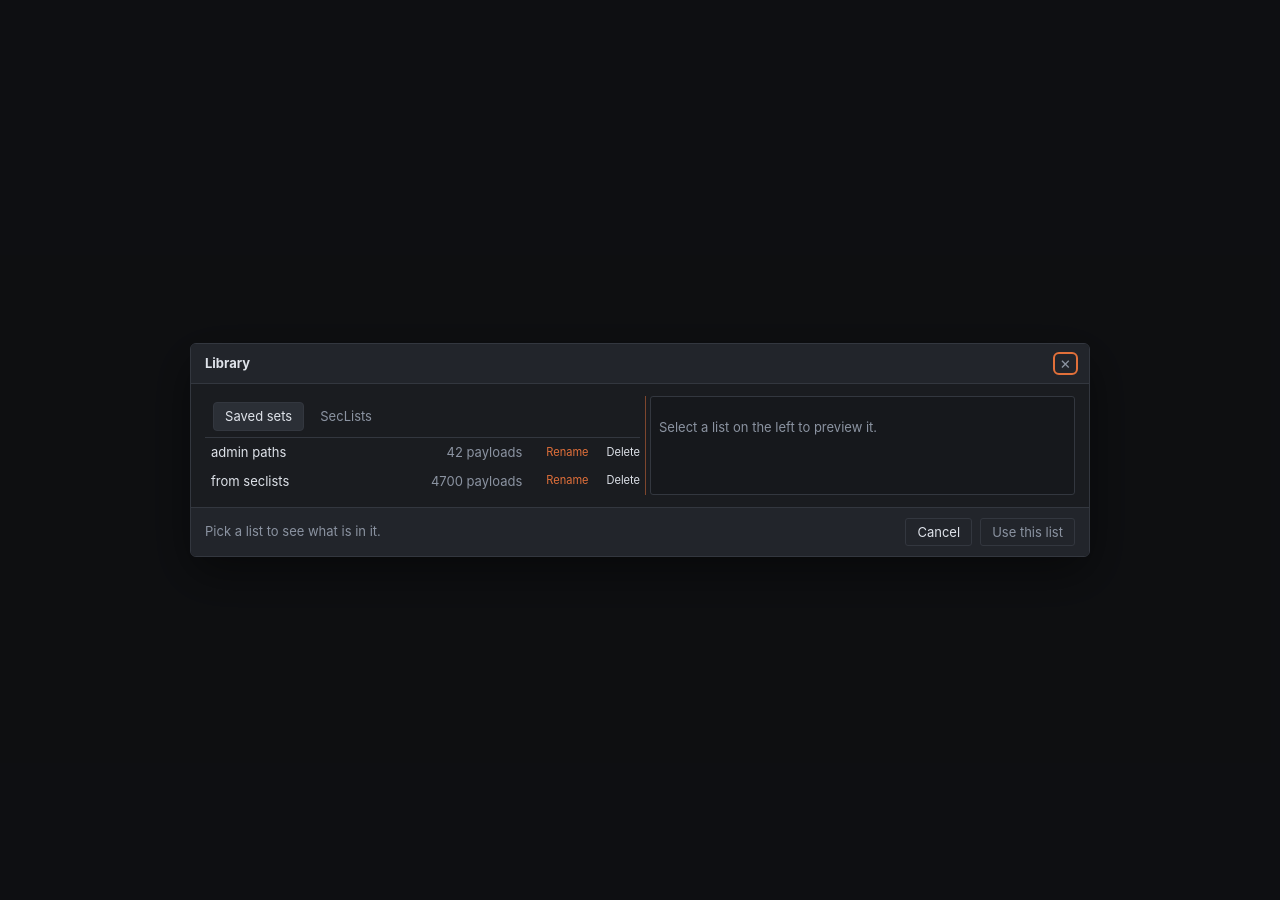
Scenario: PayloadLibrary › shows what is in a list before it is used
Click the text "admin paths": {"x": 249, "y": 452} 211,443 -> 286,462
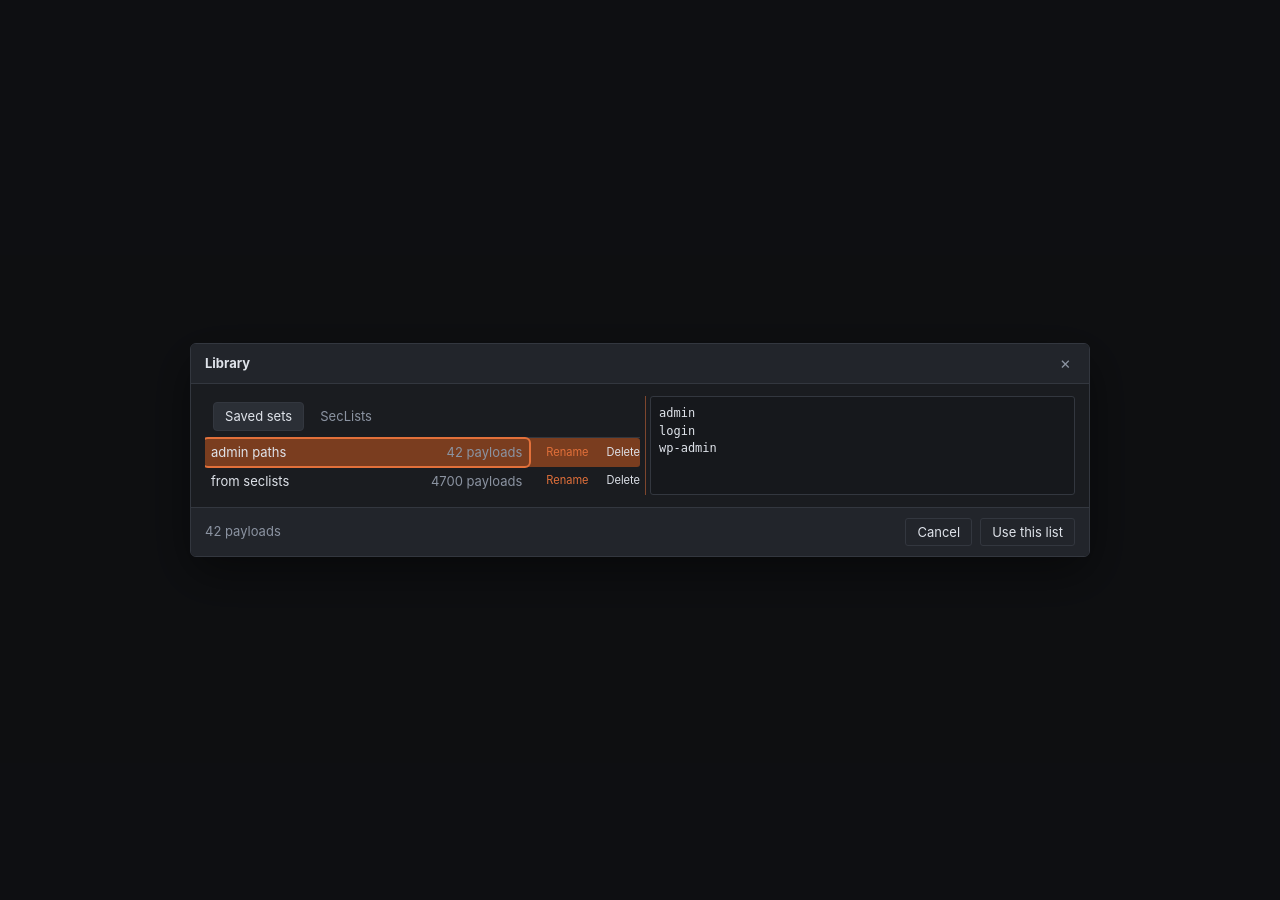
Check: the text "admin login wp-admin" is shown, box 659,406 -> 717,455
